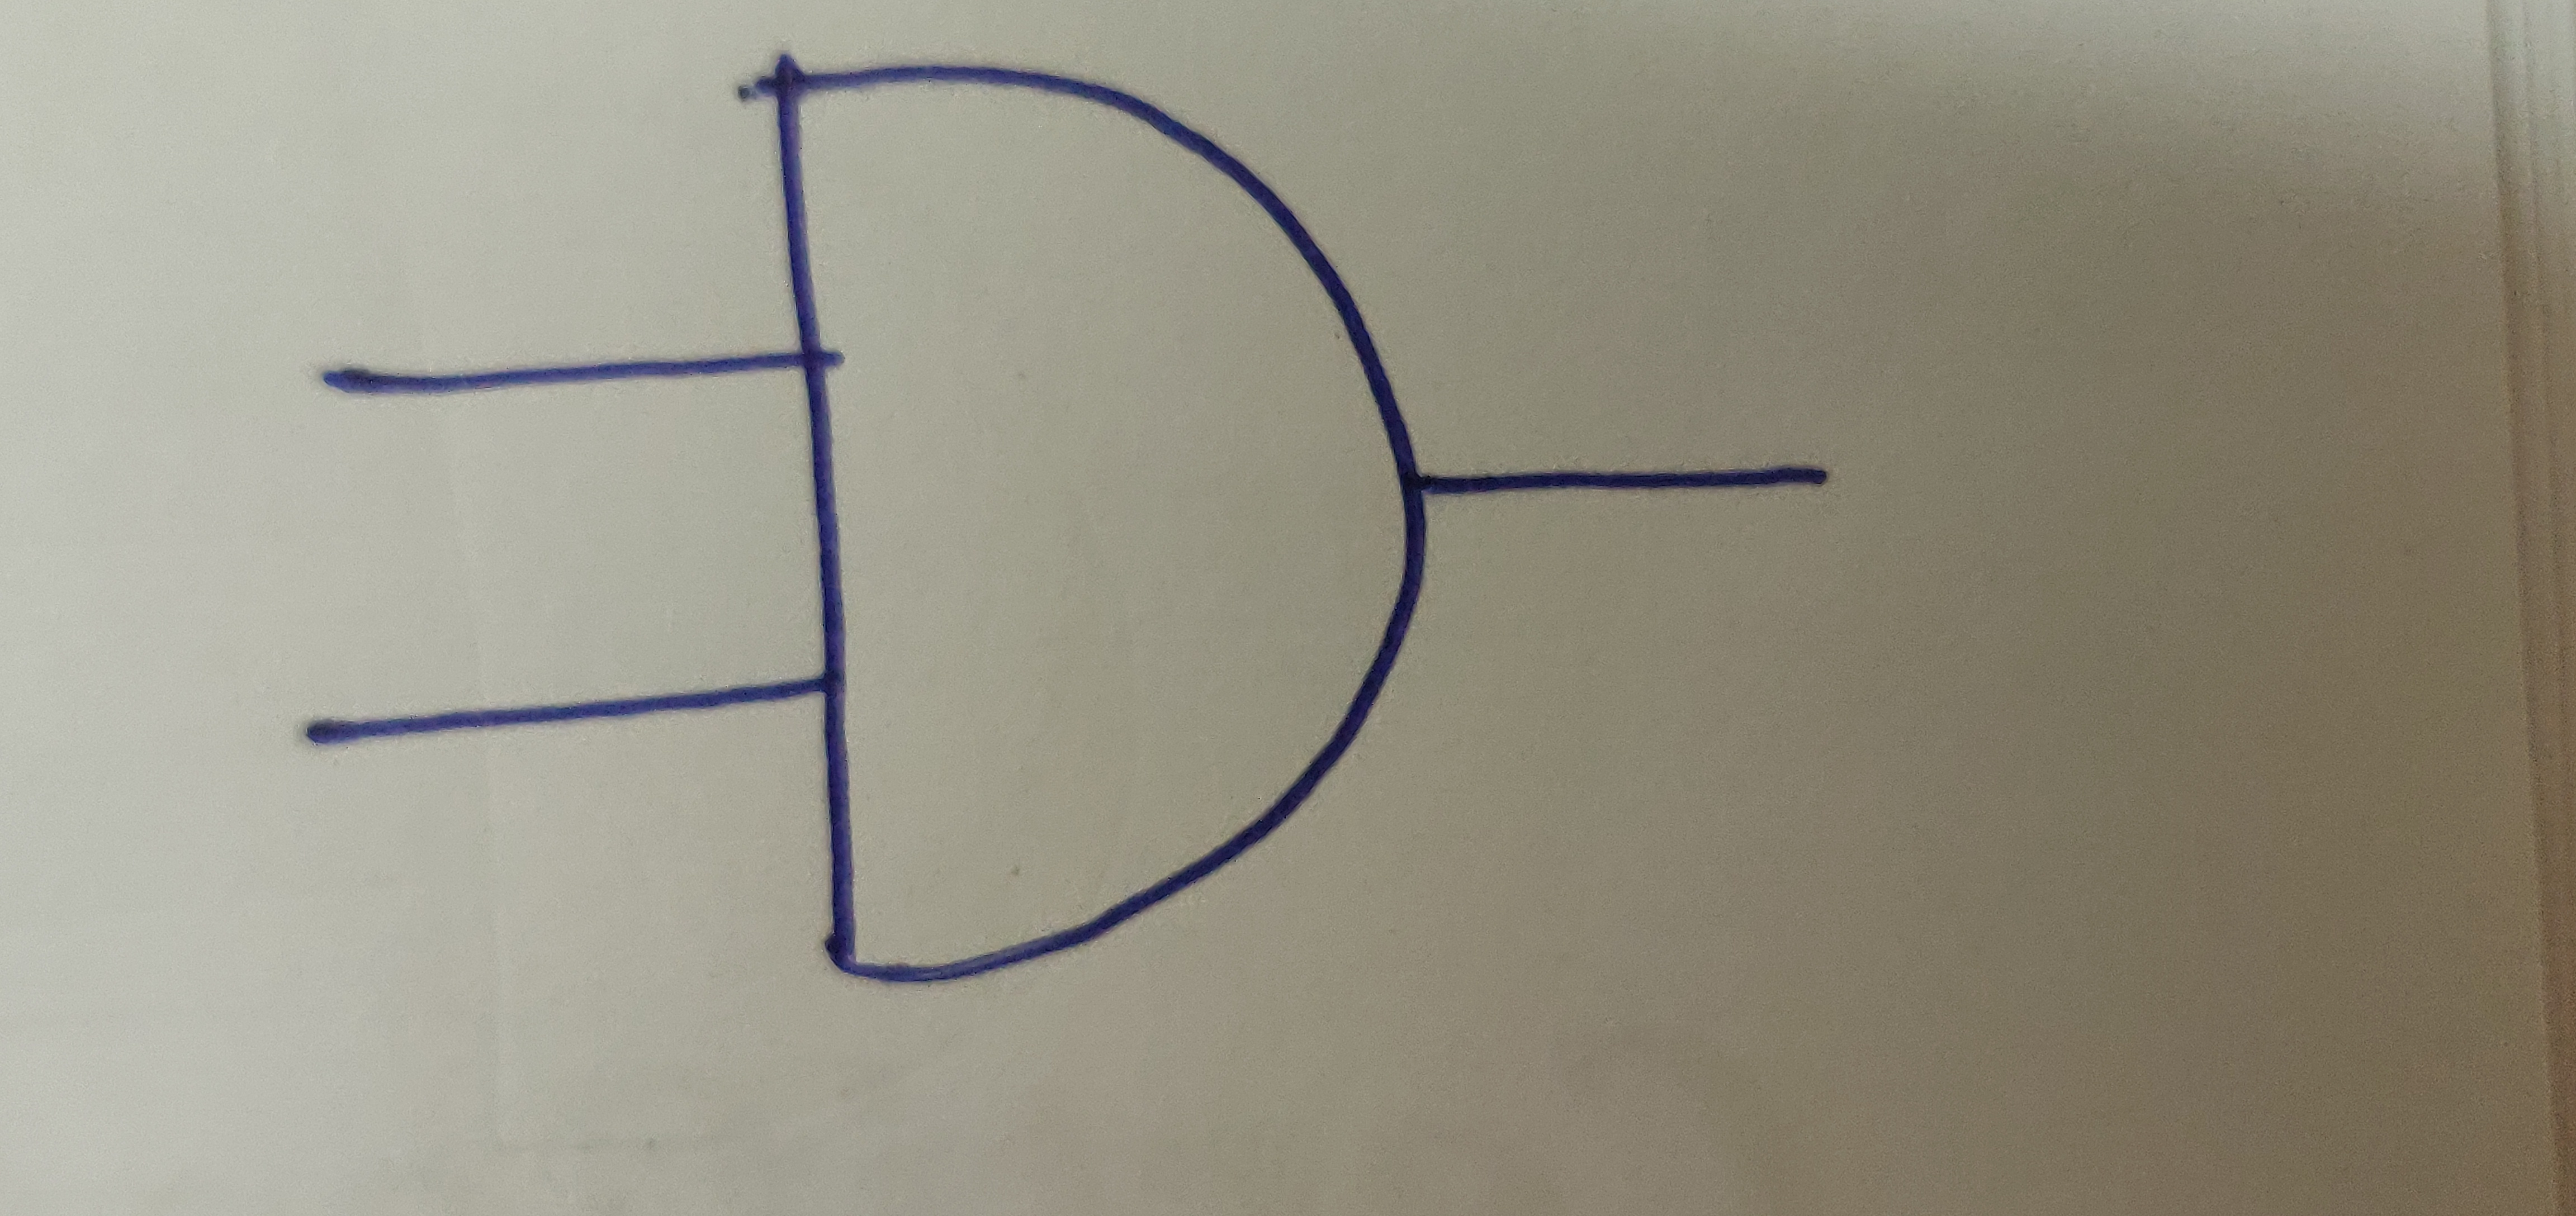and: (774, 62, 1433, 986)
